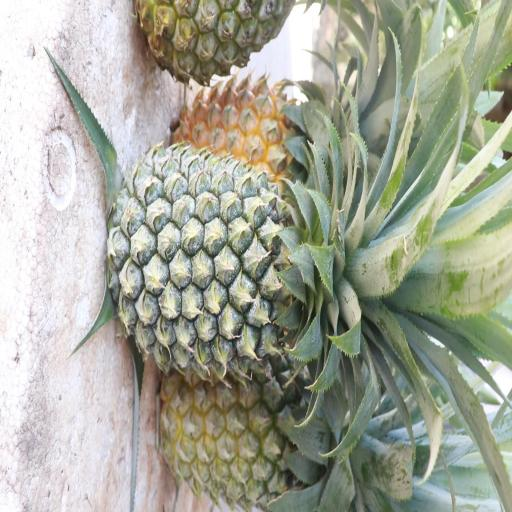------------------------------: (163, 346, 344, 506)
Pineapple - v8 v1: (178, 58, 328, 194)
